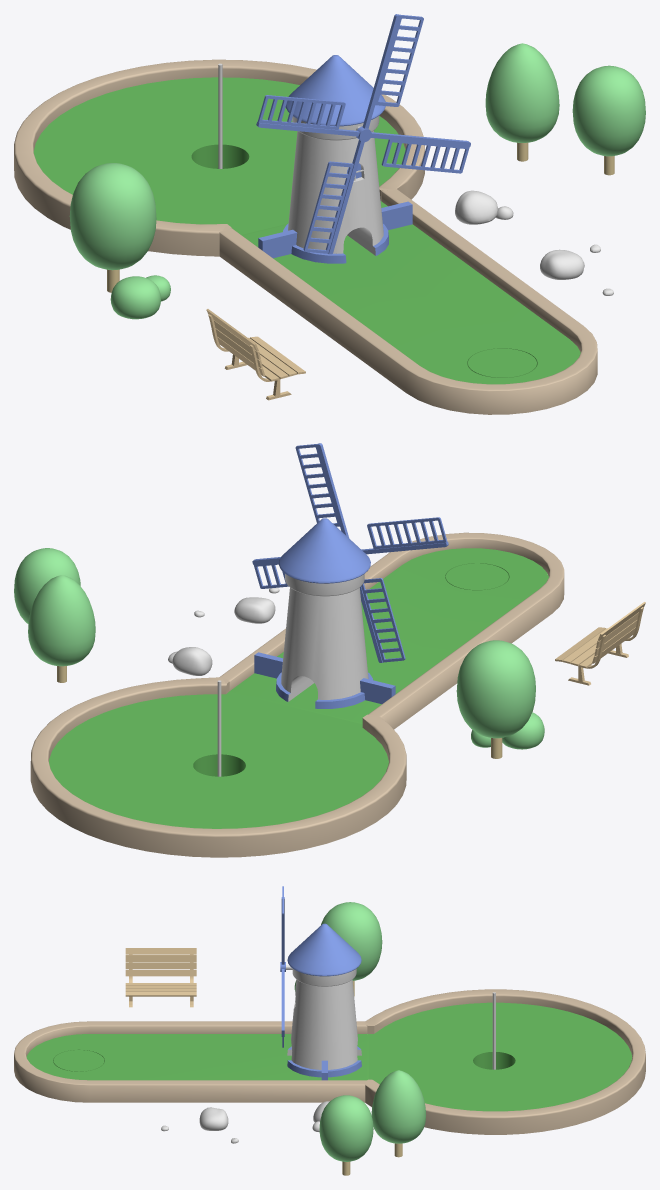
The model's file is Windmill05.glb.
3 renders of one model, top to bottom at view 1: azimuth 30°, elevation 25°; view 2: azimuth 150°, elevation 25°; view 3: azimuth 270°, elevation 25°, orthographic. The views are drawn at different scales.
Visible parts, largest first — view 1: Goal, Start, Tree, Windmill, Fan, Bench, Rock, Bush, Flip, Wall; view 2: Goal, Start, Tree, Windmill, Fan, Bench, Rock, Flip, Wall, Bush; view 3: Goal, Start, Windmill, Tree, Bench, Rock, Flip, Fan.
Boxes of the visible parts, x1,y1,x2,y2 form: Goal: (14, 59, 424, 256); Start: (219, 189, 597, 414); Tree: (69, 43, 645, 292); Windmill: (283, 55, 388, 263); Fan: (256, 14, 470, 254); Bench: (206, 309, 305, 400); Rock: (455, 190, 613, 295); Bush: (110, 275, 170, 319); Flip: (468, 348, 536, 377); Wall: (258, 201, 412, 258); Goal: (30, 677, 406, 857); Start: (219, 532, 564, 729); Tree: (14, 548, 535, 758); Windmill: (276, 518, 372, 708); Fan: (252, 443, 448, 662); Bench: (555, 602, 645, 685); Rock: (168, 587, 279, 675); Flip: (445, 563, 508, 590); Wall: (254, 652, 395, 703); Bush: (471, 712, 544, 749); Goal: (364, 989, 645, 1134); Start: (14, 1021, 368, 1102); Windmill: (287, 923, 361, 1077); Tree: (319, 902, 426, 1175); Bench: (125, 948, 196, 1007); Rock: (161, 1101, 329, 1143); Flip: (53, 1050, 104, 1071); Fan: (280, 886, 285, 1047).
Size of the model in its own units: 5.56 by 2.56 by 7.34.
